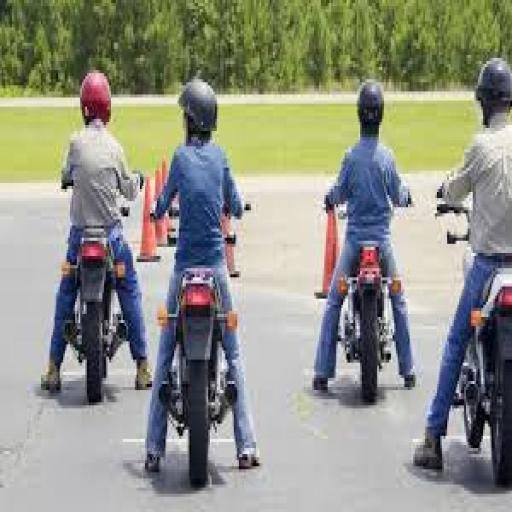overloading: (34, 52, 509, 484)
